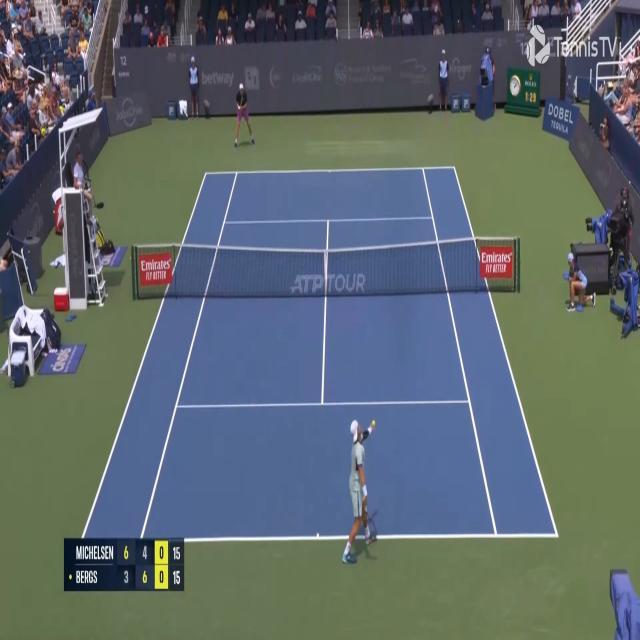tennis-player: (341, 414, 380, 570), (233, 82, 256, 150)
